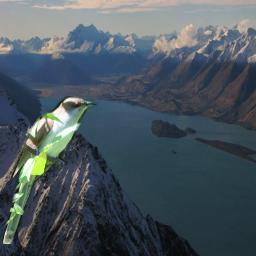Cuckoo: (2, 96, 99, 244)
